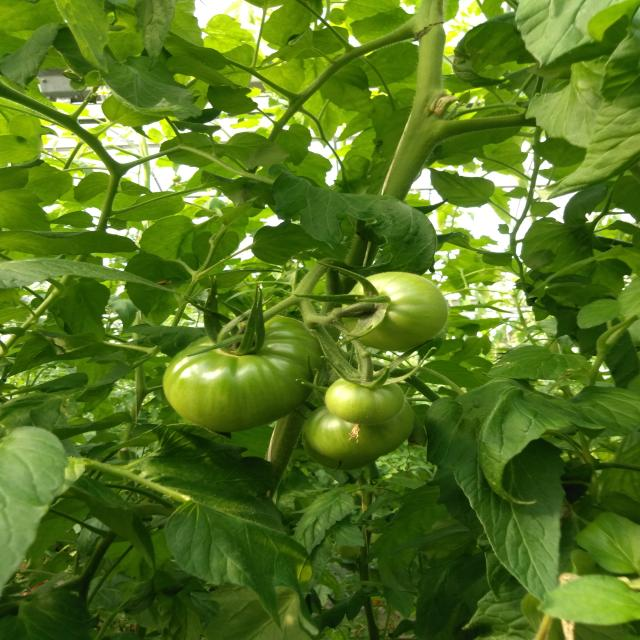yesil: (148, 225, 445, 472)
